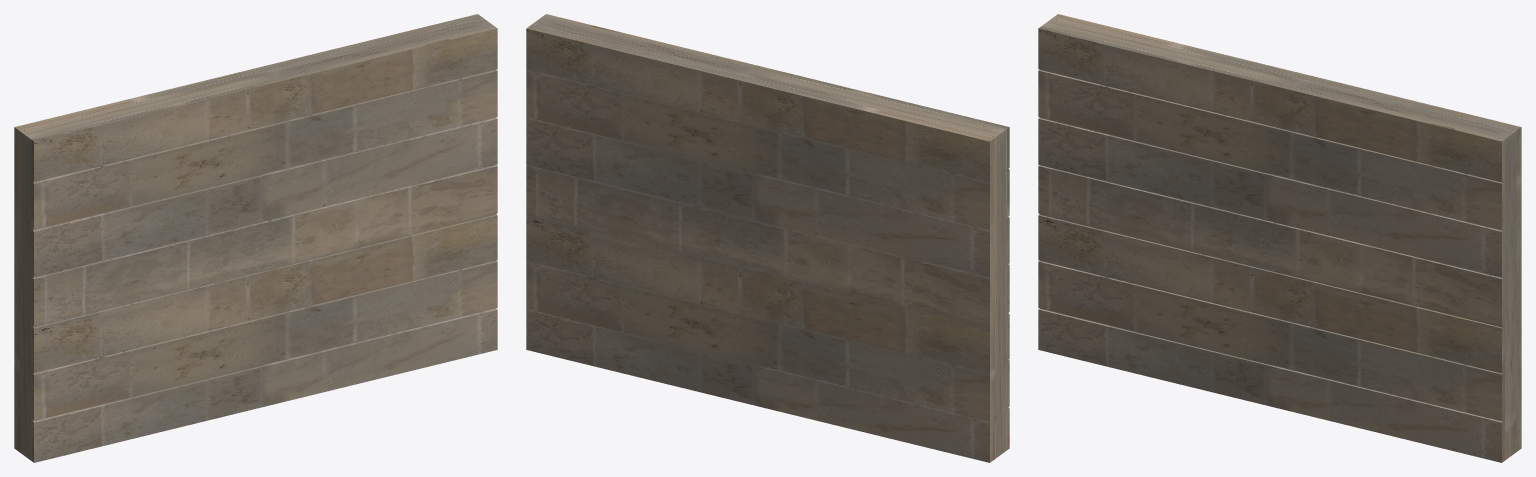
The model's file is Environment_TileWall_Tan.glb.
3 renders of one model, left to right at view 1: azimuth 30°, elevation 25°; view 2: azimuth 150°, elevation 25°; view 3: azimuth 330°, elevation 25°, orthographic.
Visible parts, largest first — view 1: TanStoneWall.001; view 2: TanStoneWall.001; view 3: TanStoneWall.001.
Boxes of the visible parts, <box> form: TanStoneWall.001: <box>14,14,497,462</box>; TanStoneWall.001: <box>526,14,1009,462</box>; TanStoneWall.001: <box>1038,14,1521,462</box>.
Size of the model in its own units: 19.65 by 13.02 by 1.45.
Materials: 1 (1 with a texture image).
